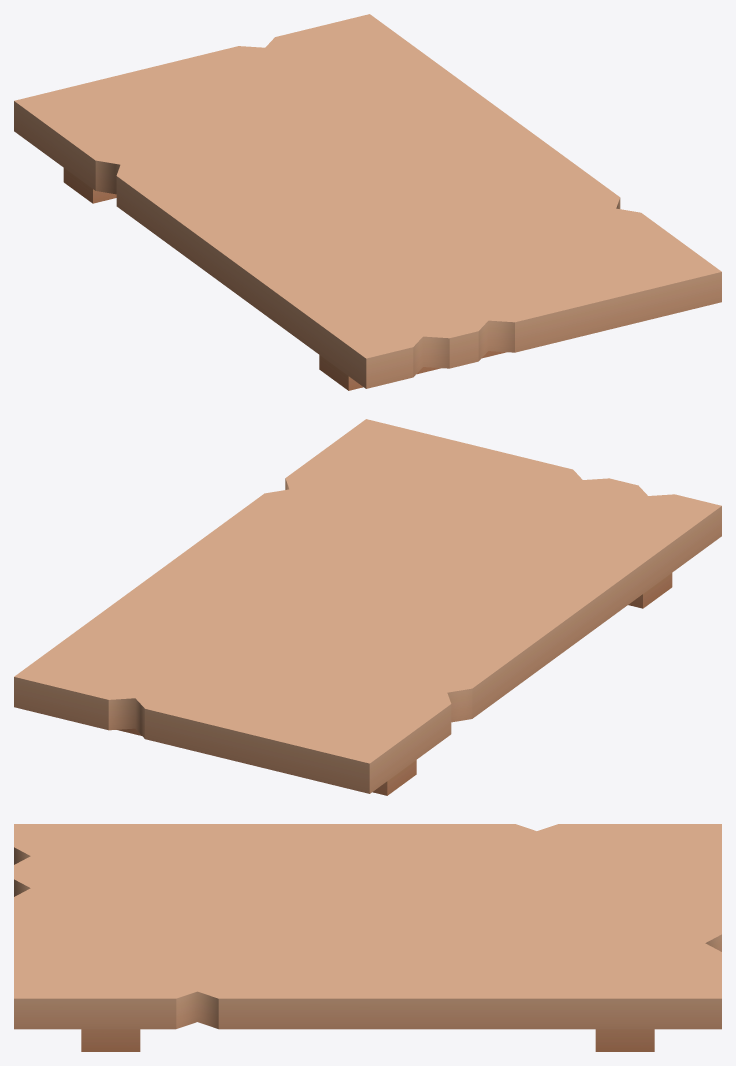
File: cutting-board-japanese.glb
3 views of the same model, one above another, from view 1: azimuth 30°, elevation 25°; view 2: azimuth 150°, elevation 25°; view 3: azimuth 270°, elevation 25° (orthographic).
Visible parts, largest first — view 1: cutting-board-japanese; view 2: cutting-board-japanese; view 3: cutting-board-japanese.
Part boxes in pixels (x1,y1,x2,y2): cutting-board-japanese: (14,14,721,390); cutting-board-japanese: (14,419,721,795); cutting-board-japanese: (14,824,721,1051).
Size of the model in its own units: 0.49 by 0.08 by 0.84.
Materials: 1 (1 with a texture image).
